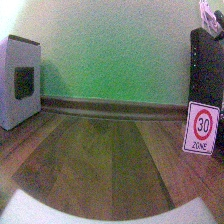dreisiger_zone: (182, 100, 219, 156)
